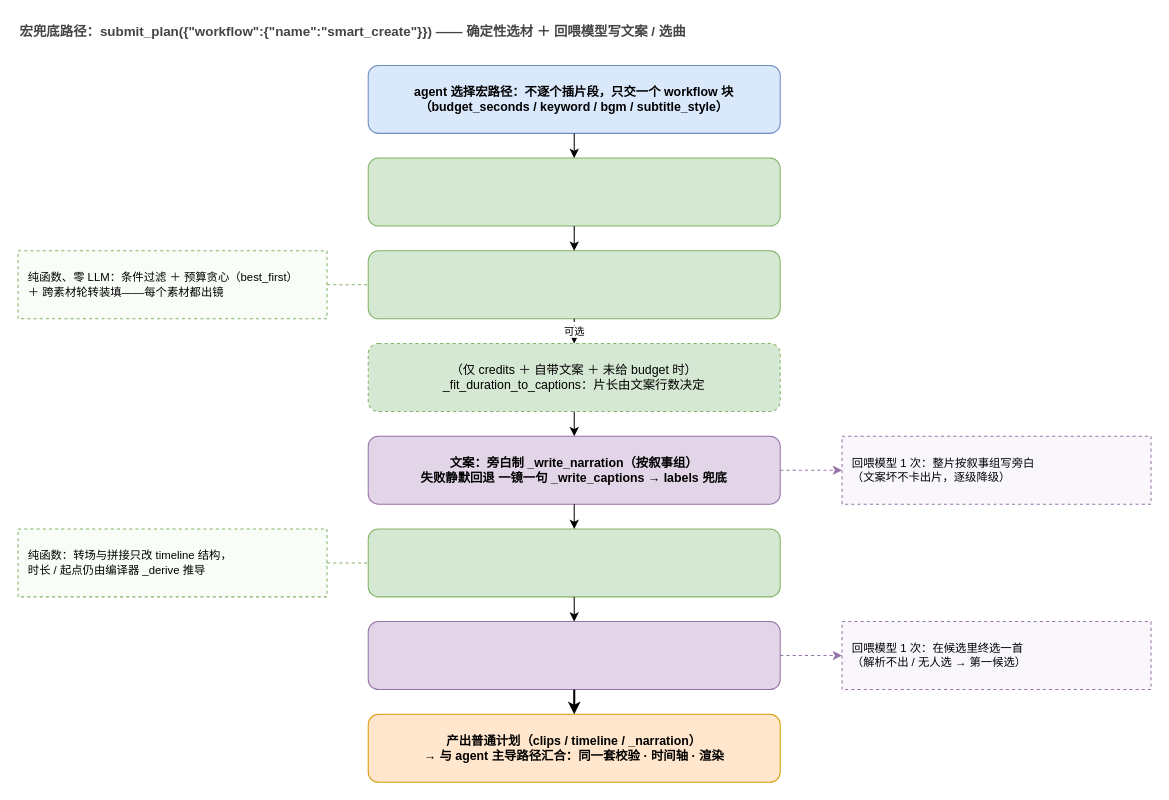
Image size: 1169x800. Some labels were removed from this diagram. The centre of each missing label's shape, as x and y in pixels:
"_attach_bgm：候选 → LLM 终选一首 原声默认 mute，音乐循环铺满；失败回退第一首" belongs at point (573, 655).
"_expand_workflow：宏注册表分发 ＋ _gather_ctx（内容卡 / 探针 / 曲库候选）" belongs at point (573, 191).
"shot_select.select_shots quality good/ok · 静音比 <0.8 · 时长 ≥1.5s · 可选关键词" belongs at point (573, 284).
"挂 fade 转场（每个边界） timeline[i>0].transition = {type, duration}" belongs at point (573, 562).
